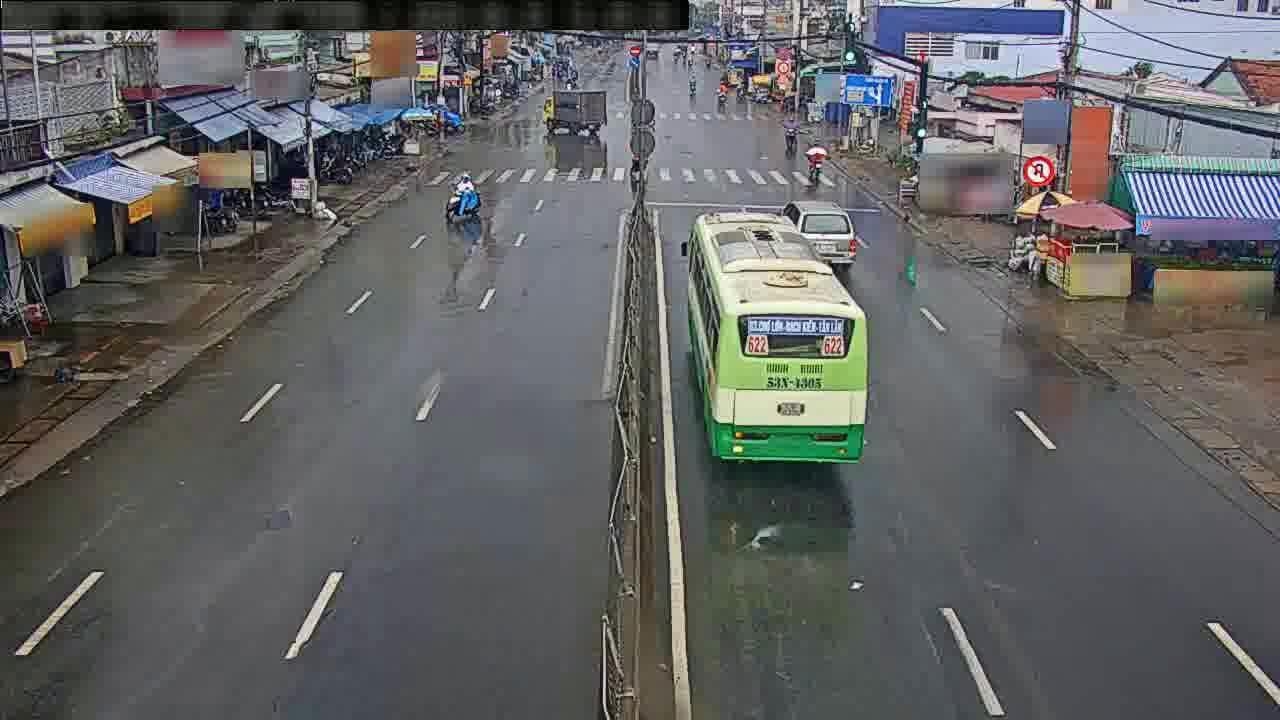14: (688, 211, 865, 465)
container: (776, 196, 857, 273)
motorbike: (445, 170, 479, 228), (803, 138, 824, 175), (781, 114, 796, 148), (686, 69, 699, 89), (716, 81, 726, 102)
